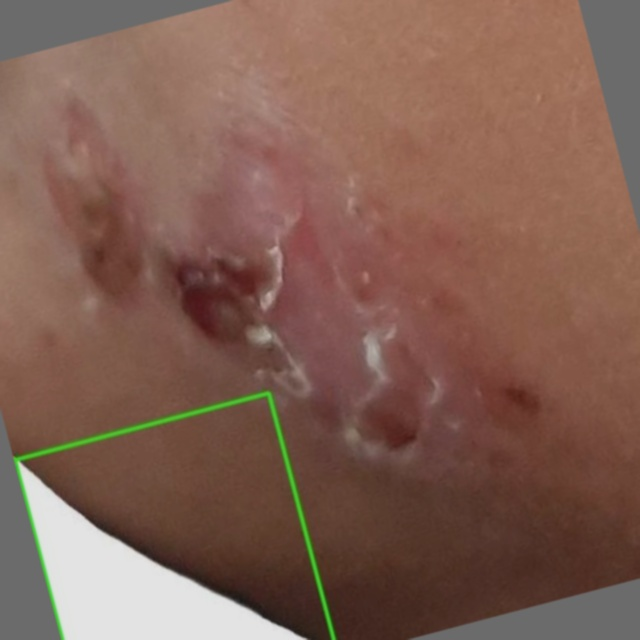Contact Dermatitis: (14, 393, 333, 639)
